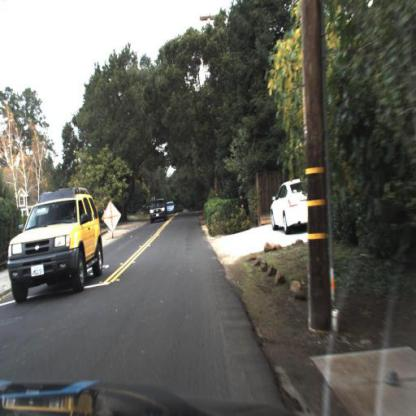car: (6, 186, 106, 303), (270, 174, 315, 237), (149, 200, 167, 225), (168, 202, 177, 217)
